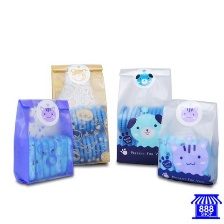snack: (45, 58, 113, 171), (109, 61, 179, 170), (152, 93, 224, 191), (8, 93, 79, 190)
